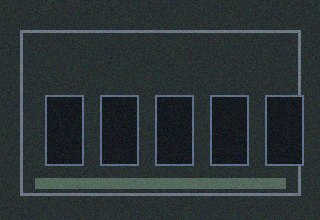

What the dashboard file says about the page in this screenshot:
{"tool":"tableau","page":{"name":"CampusLens Campus Health","canvas":[1000,1000],"units":"permille","ordinal":0},"visuals":[{"type":"worksheet","title":"Issue mix","mark":"Automatic","cols":["complaint_id"],"box":[0,0,500,500]},{"type":"worksheet","title":"Facility hotspots","mark":"Bar","cols":["complaint_id"],"box":[500,0,500,500]}]}

Visuals, with their boxes on the dashboard's canvas, which has no fixed pixel size, in thousandths of its width and height (x1, y1, x2, y2). These are canvas units, not pixel positions in the 320x220 screenshot, which may show the page scaled, cropped or inside an application window:
"Issue mix" worksheet: bbox(0, 0, 500, 500)
"Facility hotspots" worksheet (Bar marks): bbox(500, 0, 1000, 500)
